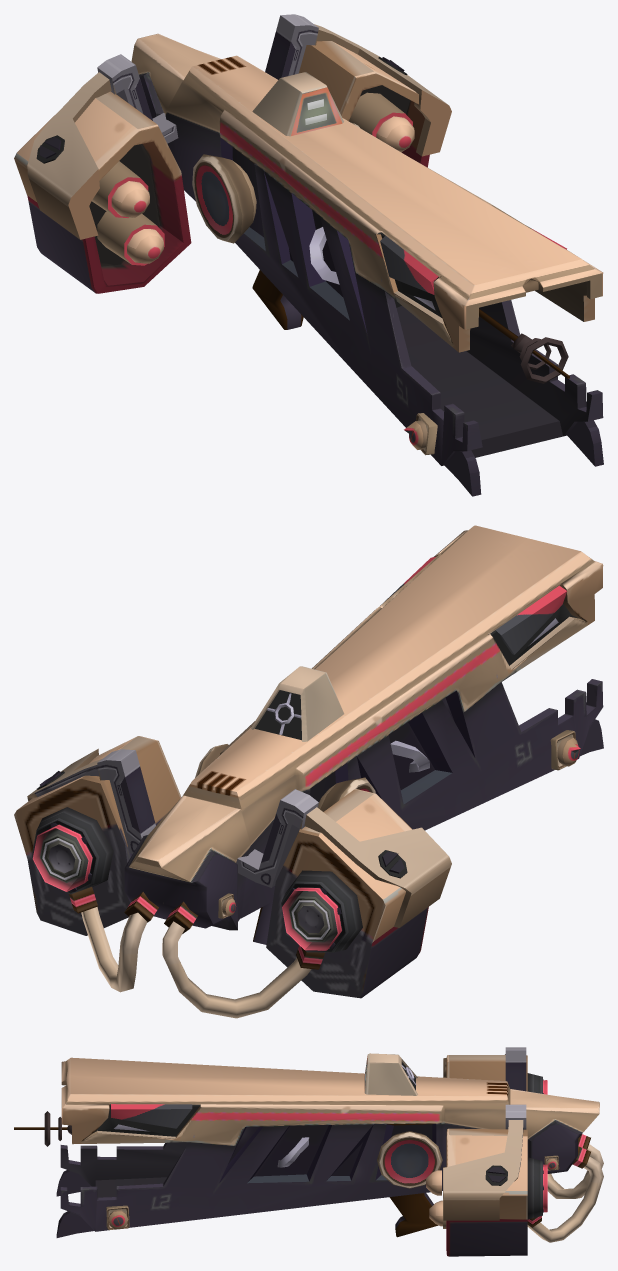
File: Chariot03_jupao.FBX
3 renders of one model, top to bottom at view 1: azimuth 30°, elevation 25°; view 2: azimuth 150°, elevation 25°; view 3: azimuth 270°, elevation 25°, orthographic. The views are drawn at different scales.
Parts seen in each view (by area): view 1: Chariot03_jupao; view 2: Chariot03_jupao; view 3: Chariot03_jupao.
Boxes of the visible parts, x1,y1,x2,y2 form: Chariot03_jupao: (14,14,603,496); Chariot03_jupao: (14,525,603,1018); Chariot03_jupao: (14,1047,603,1256).
Bounding box in the file's own units: 2.47 × 1.56 × 4.72.
